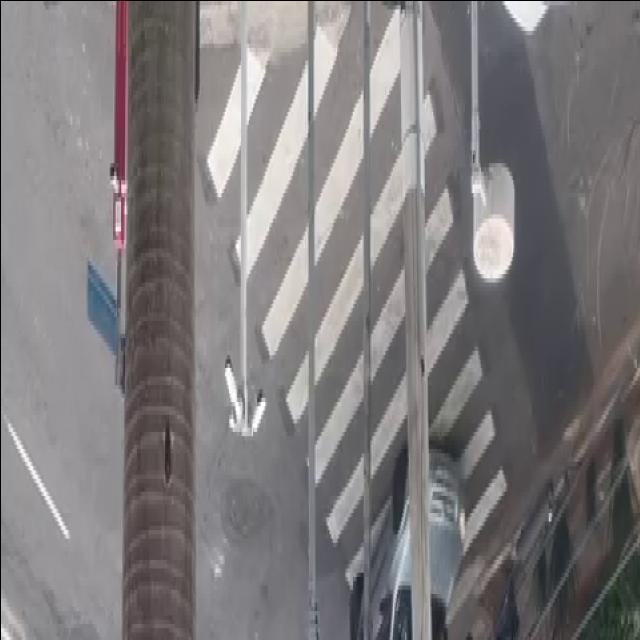car: (336, 436, 474, 640)
